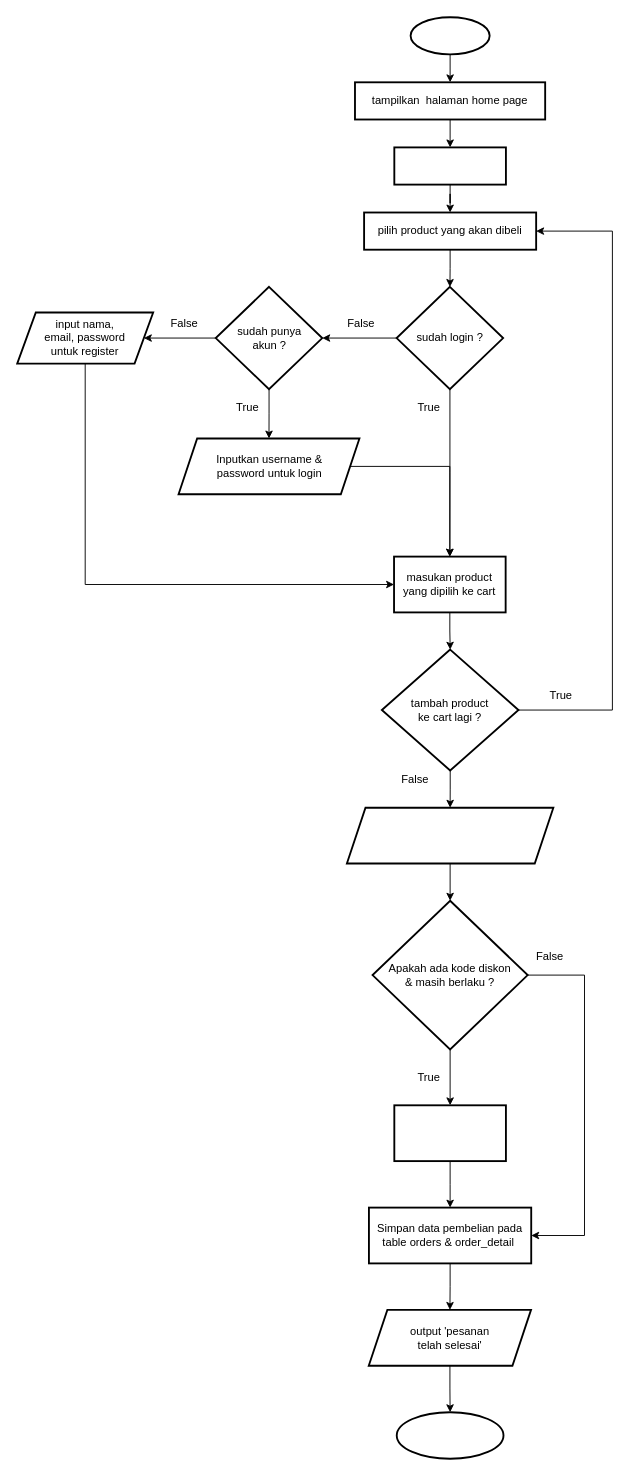
Image size: 636x1475. Some labels were removed from this diagram. Here are the shapes that lost their labels. From the top down, the centre of each, then its label:
At (x=449, y=35): "Mulai".
At (x=449, y=165): "tampilkan product".
At (x=449, y=835): "input metode pembayaran, kode discount dan klik confirm & pay".
At (x=449, y=1133): "beri diskon pada harga".
At (x=449, y=1435): "Selesai".
